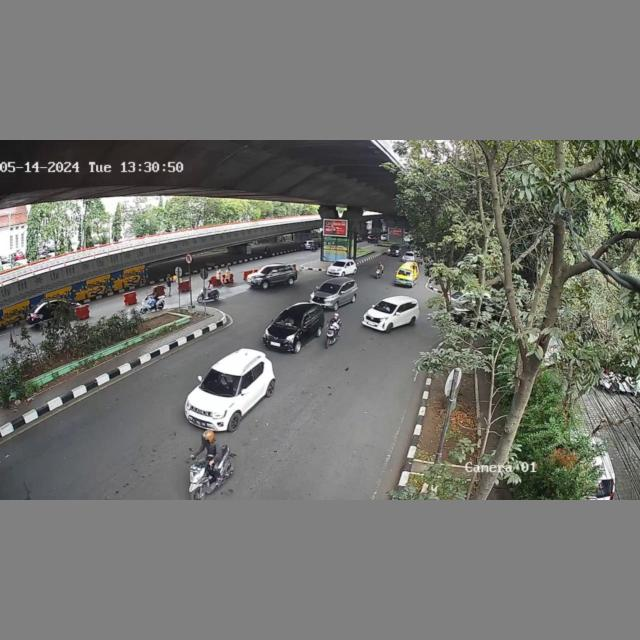windshield: (205, 370, 243, 397), (273, 312, 304, 328), (318, 280, 342, 294), (374, 300, 395, 315)
